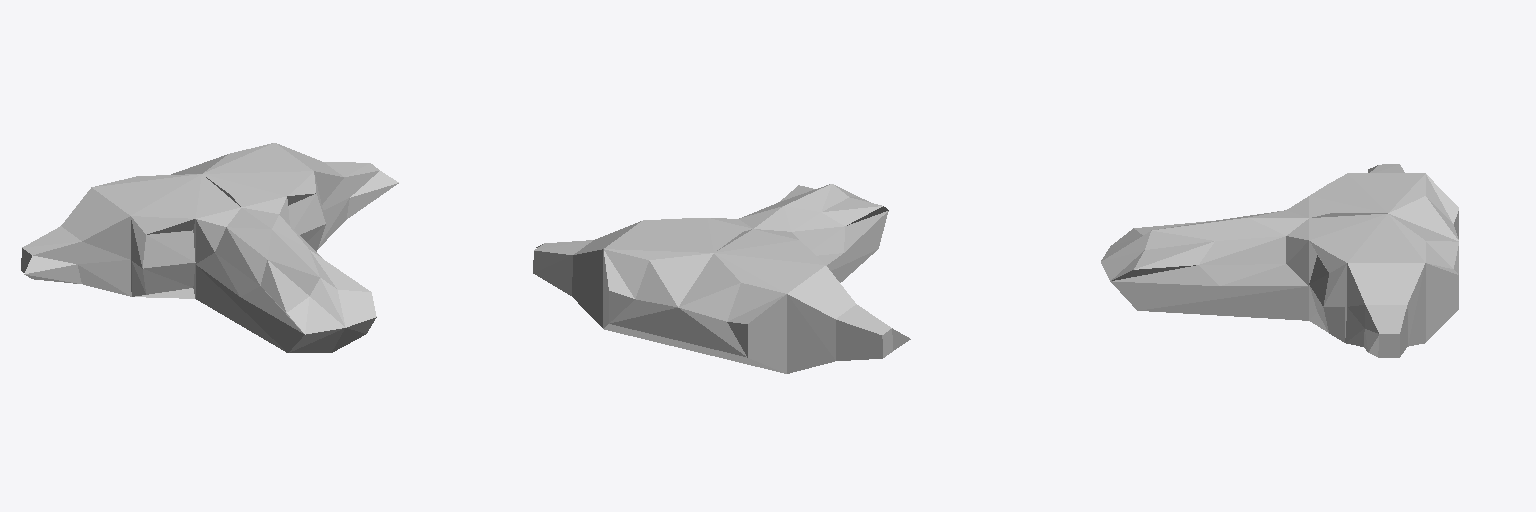
The model's file is spaceship.obj.
The picture shows the model from 3 angles: view 1: azimuth 30°, elevation 25°; view 2: azimuth 150°, elevation 25°; view 3: azimuth 270°, elevation 25°; orthographic projection.
Visible parts, largest first — view 1: Cube_Cube.002; view 2: Cube_Cube.002; view 3: Cube_Cube.002.
Part boxes in pixels (left/top/right/bottom): Cube_Cube.002: left=21, top=143, right=398, bottom=352; Cube_Cube.002: left=533, top=184, right=910, bottom=373; Cube_Cube.002: left=1101, top=164, right=1458, bottom=357.
Bounding box in the file's own units: 10.78 × 2.33 × 8.93.